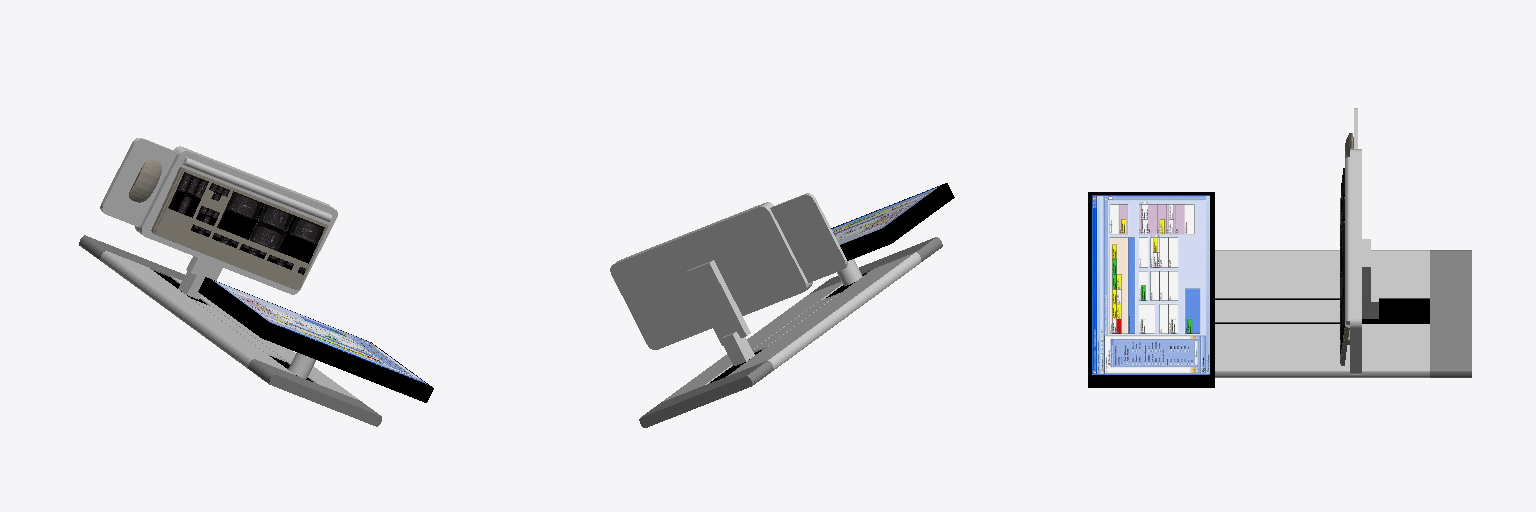
3 views of the same model, side by side, from view 1: azimuth 30°, elevation 25°; view 2: azimuth 150°, elevation 25°; view 3: azimuth 270°, elevation 25° (orthographic).
Parts seen in each view (by area): view 1: 0_MT_GER_TE FARBE__WEI_ FLAT_PART, 0_MT_GER_TE KUNSTSTOFF-SPANPLATTE SMOOTH_PART, 0_MT_GER_TE FARBE__SCHWARZ, 0_MT_GER_TE FARBE__WEI_ SMOOTH_PART, 0_MT_GER_TE GDLM52_LETTERKEYSMAT SMOOTH_PART, 0_MT_GER_TE FARBE__SCHWARZ_TEXTURE, 0_MT_GER_TE FARBE__GRAU FLAT_PART, 0_MT_GER_TE GDLM54_NUMPADMAT SMOOTH_PART, 0_MT_GER_TE KUNSTSTOFF-SPANPLATTE FLAT_PART, 0_MT_GER_TE FARBE__GRAU SMOOTH_PART; view 2: 0_MT_GER_TE FARBE__WEI_ FLAT_PART, 0_MT_GER_TE FARBE__WEI_ SMOOTH_PART, 0_MT_GER_TE FARBE__GRAU FLAT_PART, 0_MT_GER_TE FARBE__SCHWARZ, 0_MT_GER_TE FARBE__SCHWARZ_TEXTURE, 0_MT_GER_TE FARBE__GRAU SMOOTH_PART; view 3: 0_MT_GER_TE FARBE__WEI_ FLAT_PART, 0_MT_GER_TE FARBE__SCHWARZ_TEXTURE, 0_MT_GER_TE FARBE__WEI_ SMOOTH_PART, 0_MT_GER_TE FARBE__SCHWARZ, 0_MT_GER_TE FARBE__GRAU FLAT_PART.
Part boxes in pixels (x1,y1,x2,y2): 0_MT_GER_TE FARBE__WEI_ FLAT_PART: (102, 139, 358, 399); 0_MT_GER_TE KUNSTSTOFF-SPANPLATTE SMOOTH_PART: (129, 159, 328, 287); 0_MT_GER_TE FARBE__SCHWARZ: (154, 271, 433, 402); 0_MT_GER_TE FARBE__WEI_ SMOOTH_PART: (100, 138, 333, 368); 0_MT_GER_TE GDLM52_LETTERKEYSMAT SMOOTH_PART: (219, 192, 324, 263); 0_MT_GER_TE FARBE__SCHWARZ_TEXTURE: (213, 280, 427, 384); 0_MT_GER_TE FARBE__GRAU FLAT_PART: (85, 235, 381, 426); 0_MT_GER_TE GDLM54_NUMPADMAT SMOOTH_PART: (169, 173, 208, 217); 0_MT_GER_TE KUNSTSTOFF-SPANPLATTE FLAT_PART: (152, 167, 306, 289); 0_MT_GER_TE FARBE__GRAU SMOOTH_PART: (79, 235, 274, 384); 0_MT_GER_TE FARBE__WEI_ FLAT_PART: (610, 195, 913, 401); 0_MT_GER_TE FARBE__WEI_ SMOOTH_PART: (613, 193, 920, 370); 0_MT_GER_TE FARBE__GRAU FLAT_PART: (639, 237, 935, 427); 0_MT_GER_TE FARBE__SCHWARZ: (710, 183, 954, 382); 0_MT_GER_TE FARBE__SCHWARZ_TEXTURE: (832, 186, 939, 244); 0_MT_GER_TE FARBE__GRAU SMOOTH_PART: (747, 237, 942, 385); 0_MT_GER_TE FARBE__WEI_ FLAT_PART: (1215, 239, 1429, 370); 0_MT_GER_TE FARBE__SCHWARZ_TEXTURE: (1092, 195, 1209, 374); 0_MT_GER_TE FARBE__WEI_ SMOOTH_PART: (1215, 108, 1429, 377); 0_MT_GER_TE FARBE__SCHWARZ: (1088, 192, 1429, 387); 0_MT_GER_TE FARBE__GRAU FLAT_PART: (1430, 251, 1471, 370).
Size of the model in its own units: 63.75 by 56.83 by 91.
Materials: 16 (2 with a texture image).